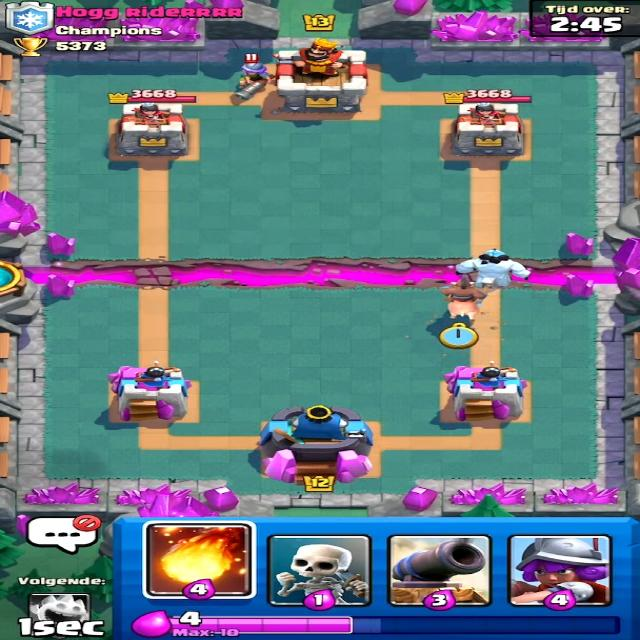Cannon_Card: (379, 531, 501, 610)
Enemy_Musketeer_Troop: (223, 55, 279, 98)
Fireball_Card: (145, 517, 259, 602)
Hog_Rider_Troop: (442, 277, 488, 320)
Ice_Golem_Troop: (448, 244, 536, 290)
Musketeer_Card: (512, 533, 620, 606)
Skeleton_Card: (276, 537, 367, 605)
